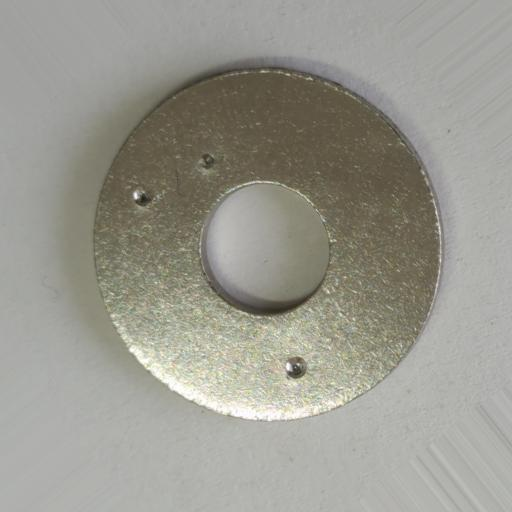circular_cavity: (284, 356, 308, 379), (132, 186, 153, 206), (199, 153, 216, 170)
